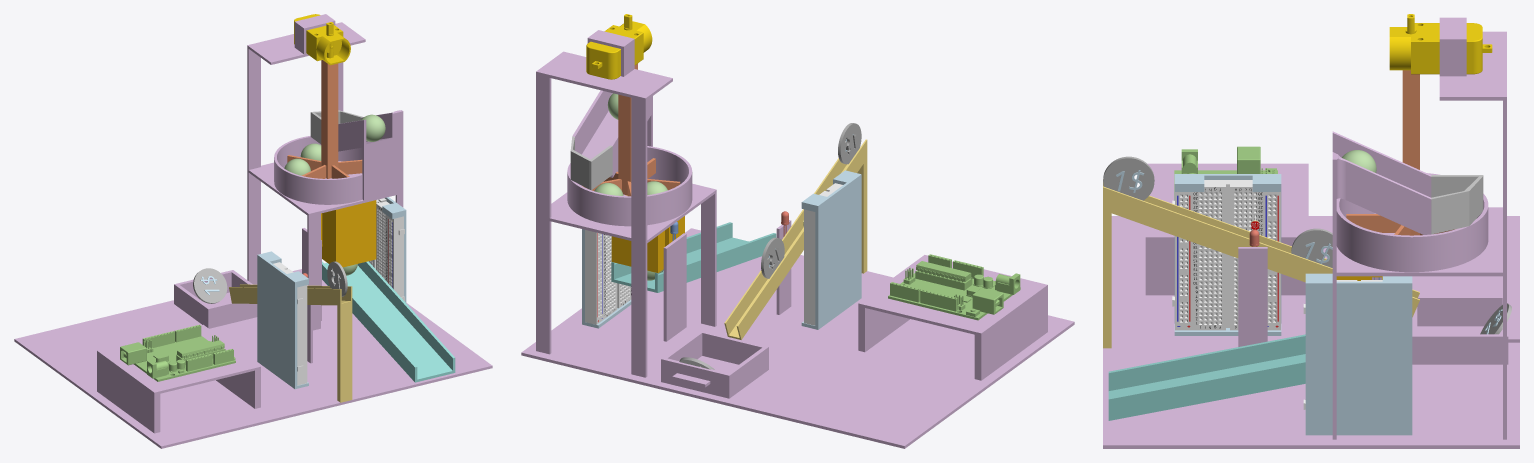
The model's file is gumballModel.glb.
3 renders of one model, left to right at view 1: azimuth 30°, elevation 25°; view 2: azimuth 150°, elevation 25°; view 3: azimuth 270°, elevation 25°, orthographic. The views are drawn at different scales.
Visible parts, largest first — view 1: Part 1 (×8), Boss-Extrude7 (×2), Part 2, motor__Fillet6, Part 3 (×2), dropperBlocker; view 2: Part 1 (×7), Boss-Extrude7 (×2), Part 2, motor__Fillet6, Part 3 (×2), dropperBlocker; view 3: Part 1 (×7), Boss-Extrude7, Part 2, motor__Fillet6, dropperBlocker, Part 3 (×2).
Part boxes in pixels (box(x1,y1,x2,y2)): Part 1 (×8): box(14, 14, 492, 448); Boss-Extrude7 (×2): box(273, 198, 404, 385); Part 2: box(229, 284, 352, 402); motor__Fillet6: box(294, 14, 350, 65); Part 3 (×2): box(193, 261, 347, 303); dropperBlocker: box(310, 110, 363, 144); Part 1 (×7): box(521, 30, 1074, 448); Boss-Extrude7 (×2): box(585, 183, 842, 325); Part 2: box(724, 139, 867, 339); motor__Fillet6: box(586, 14, 652, 79); Part 3 (×2): box(761, 123, 861, 278); dropperBlocker: box(570, 136, 612, 190); Part 1 (×7): box(1103, 17, 1519, 448); Boss-Extrude7: box(1172, 180, 1280, 330); Part 2: box(1103, 182, 1419, 348); motor__Fillet6: box(1389, 14, 1492, 74); dropperBlocker: box(1431, 175, 1483, 234); Part 3 (×2): box(1103, 156, 1332, 267).
Size of the model in its own units: 0.28 by 0.225 by 0.215.
